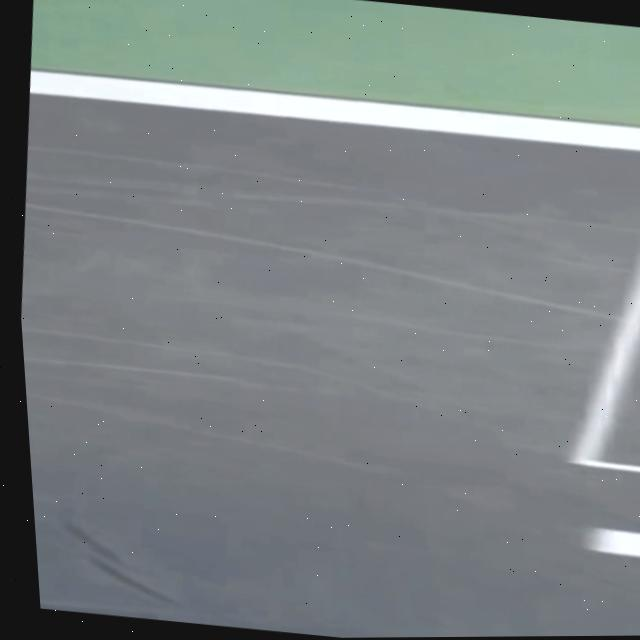center: (586, 528, 640, 558)
right: (29, 71, 640, 151)
